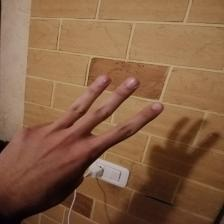two: (11, 73, 163, 196)
